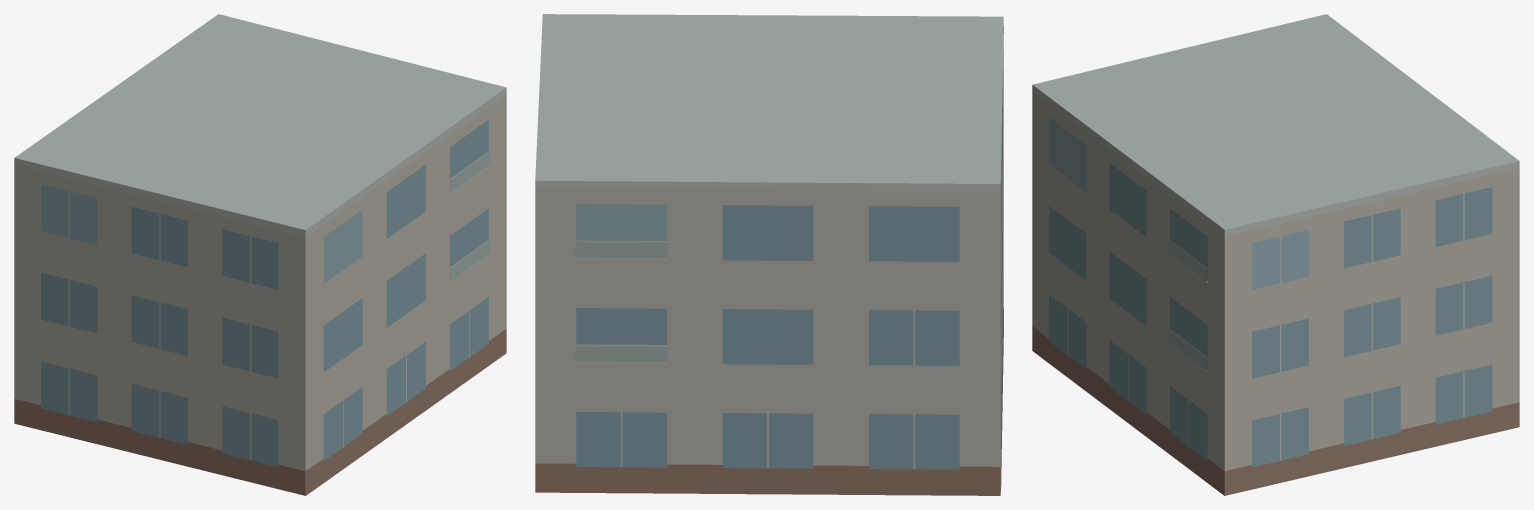
The model's file is survey-upis-32974134.glb.
3 views of the same model, side by side, from view 1: azimuth 30°, elevation 25°; view 2: azimuth 150°, elevation 25°; view 3: azimuth 270°, elevation 25° (orthographic). The views are drawn at different scales.
Parts seen in each view (by area): view 1: survey-upis-32974134.tmp; view 2: survey-upis-32974134.tmp; view 3: survey-upis-32974134.tmp.
Boxes of the visible parts, box(x1,y1,x2,y2) form: survey-upis-32974134.tmp: box(14, 14, 506, 495); survey-upis-32974134.tmp: box(535, 14, 1003, 495); survey-upis-32974134.tmp: box(1032, 14, 1519, 495).
Bounding box in the file's own units: 15.91 × 9.15 × 15.19.
